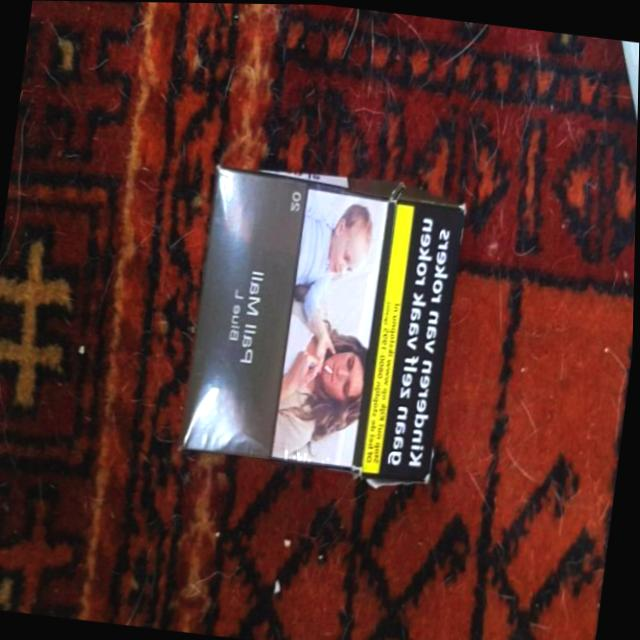Paper: (175, 149, 473, 499)
